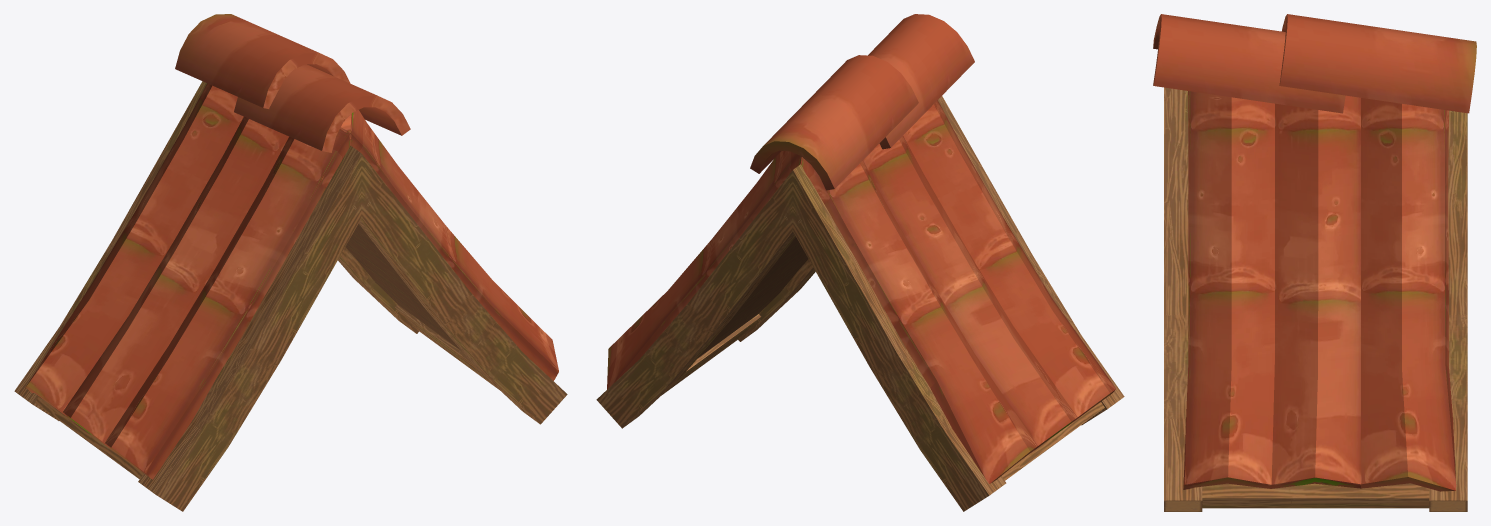
The model's file is roof-roundtile-2x1.glb.
3 views of the same model, side by side, from view 1: azimuth 30°, elevation 25°; view 2: azimuth 150°, elevation 25°; view 3: azimuth 270°, elevation 25° (orthographic). The views are drawn at different scales.
Visible parts, largest first — view 1: Roof_RoundTile_2x1; view 2: Roof_RoundTile_2x1; view 3: Roof_RoundTile_2x1.
Boxes of the visible parts, x1,y1,x2,y2 form: Roof_RoundTile_2x1: [14, 14, 567, 511]; Roof_RoundTile_2x1: [596, 14, 1124, 511]; Roof_RoundTile_2x1: [1153, 14, 1476, 511].
Size of the model in its own units: 3.3 by 2.66 by 1.95.
2 materials, 2 textured.
